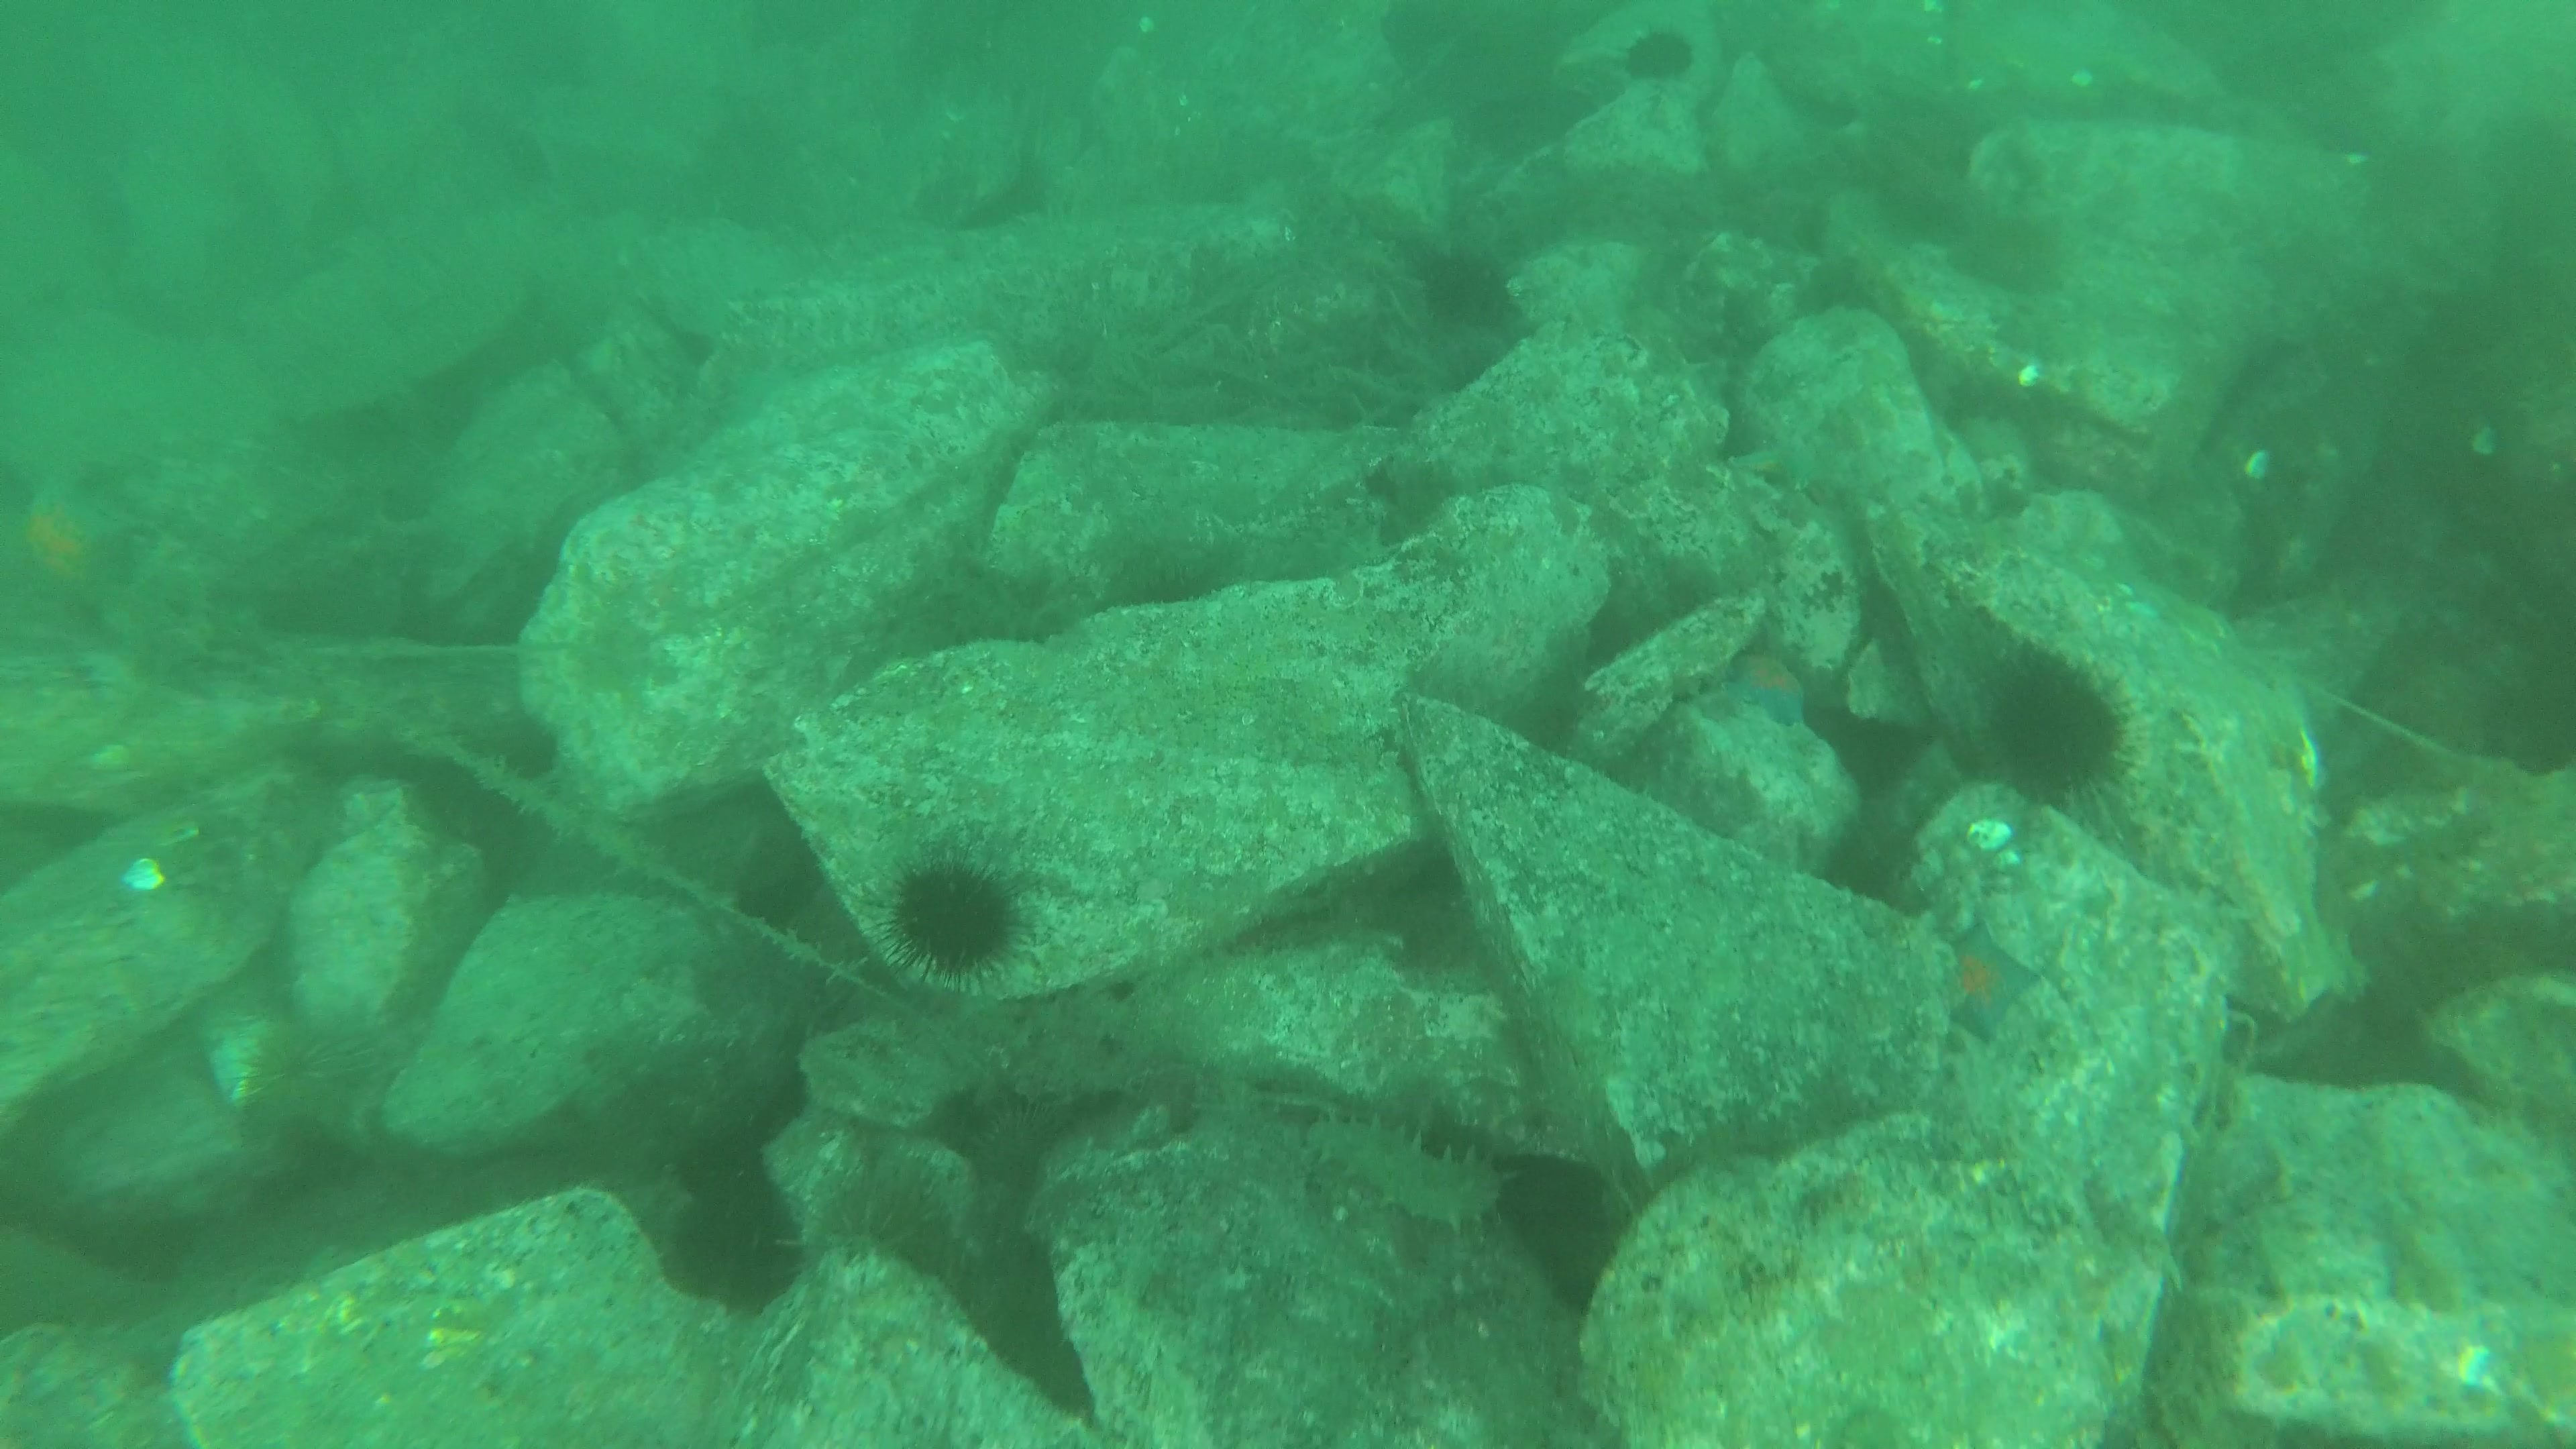echinus: (879, 837, 1056, 989), (1982, 630, 2128, 807), (798, 1161, 961, 1297), (925, 1100, 1065, 1200), (1615, 25, 1702, 92)
holothurian: (1299, 1097, 1513, 1246)
starfish: (0, 472, 127, 637), (1928, 901, 2049, 1039), (1711, 633, 1828, 729)
